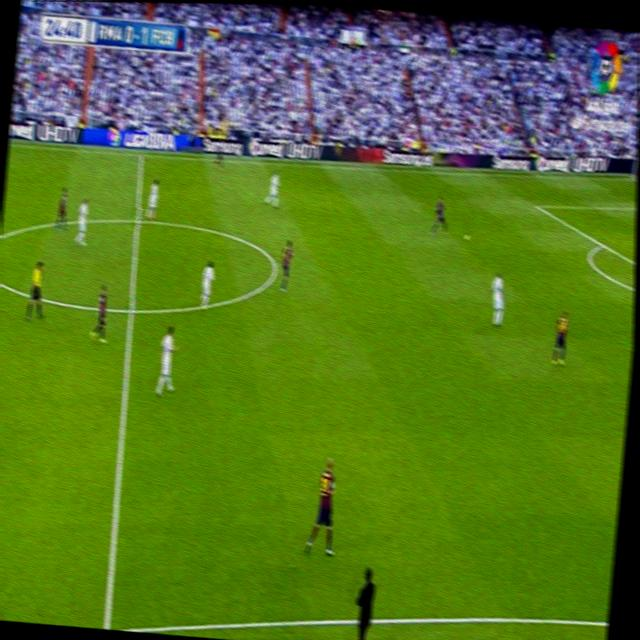corner: (627, 171, 637, 183)
halfcircle_bottom: (124, 296, 137, 321)
halfcircle_top: (130, 208, 144, 231)
midline_top_intersection: (136, 148, 146, 162)
top_arc_area_intersection: (597, 236, 607, 252)
